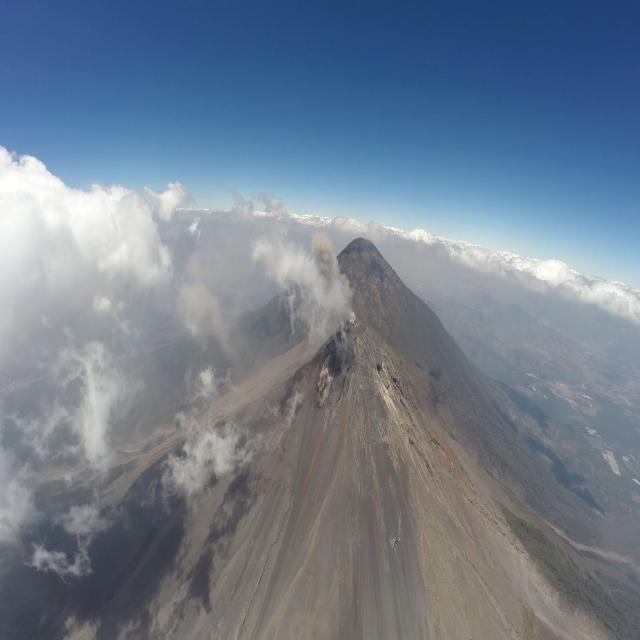Plume: (308, 230, 346, 300)
Summit: (304, 314, 418, 394)
